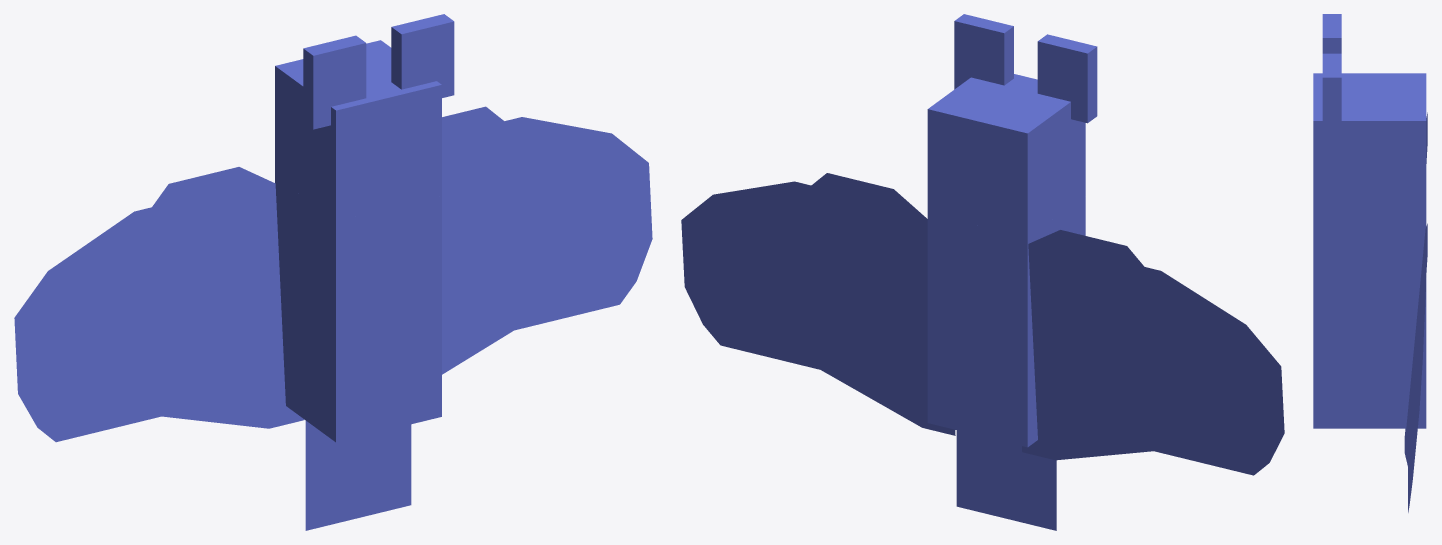
File: Bat.obj
3 renders of one model, left to right at view 1: azimuth 30°, elevation 25°; view 2: azimuth 150°, elevation 25°; view 3: azimuth 270°, elevation 25°, orthographic. The views are drawn at different scales.
Parts seen in each view (by area): view 1: Body_bat; view 2: Body_bat; view 3: Body_bat.
Part boxes in pixels (x1,y1,x2,y2): Body_bat: [14, 14, 652, 530]; Body_bat: [681, 14, 1284, 530]; Body_bat: [1313, 14, 1427, 512].
Size of the model in its own units: 78.22 by 58.67 by 13.18.
